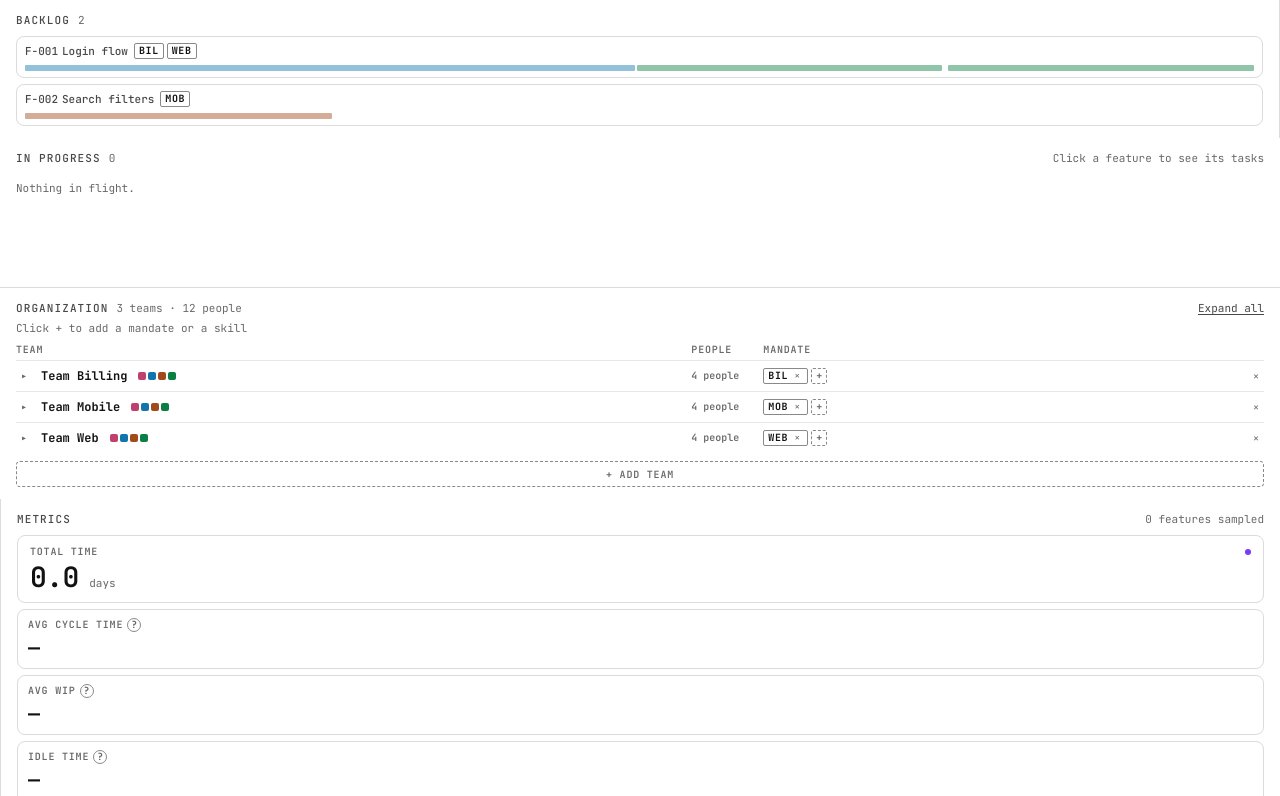
Test: feat-030 B6–B7: přejmenování týmu › B6: „  Mobile Apple “ + Enter → „Mobile Apple“; detail backlogu ukazuje „Mandate: Mobile Apple“
Replace the text in the 2nd field named "Team name" with "  Mobile Apple " at (82, 407), box [38,397,125,417]
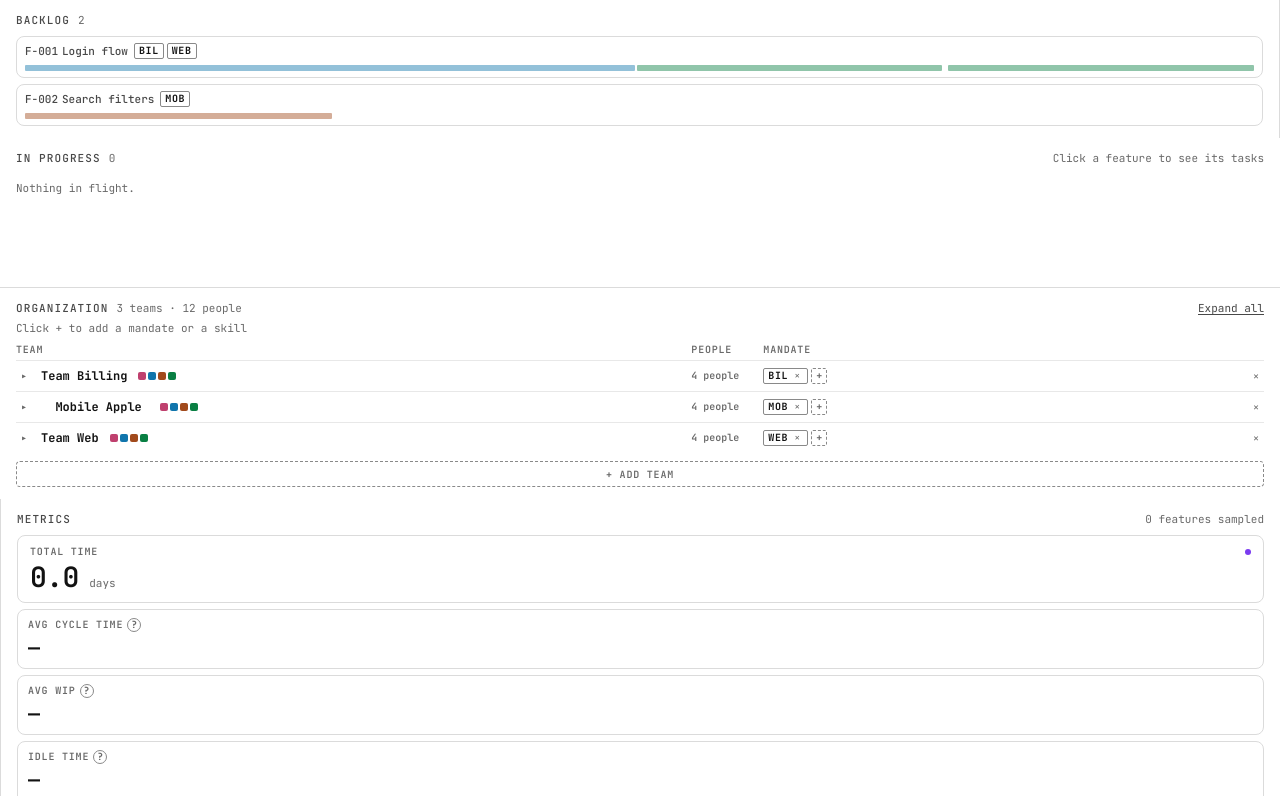
Press Enter in the 2nd field named "Team name", box [38,397,154,417]
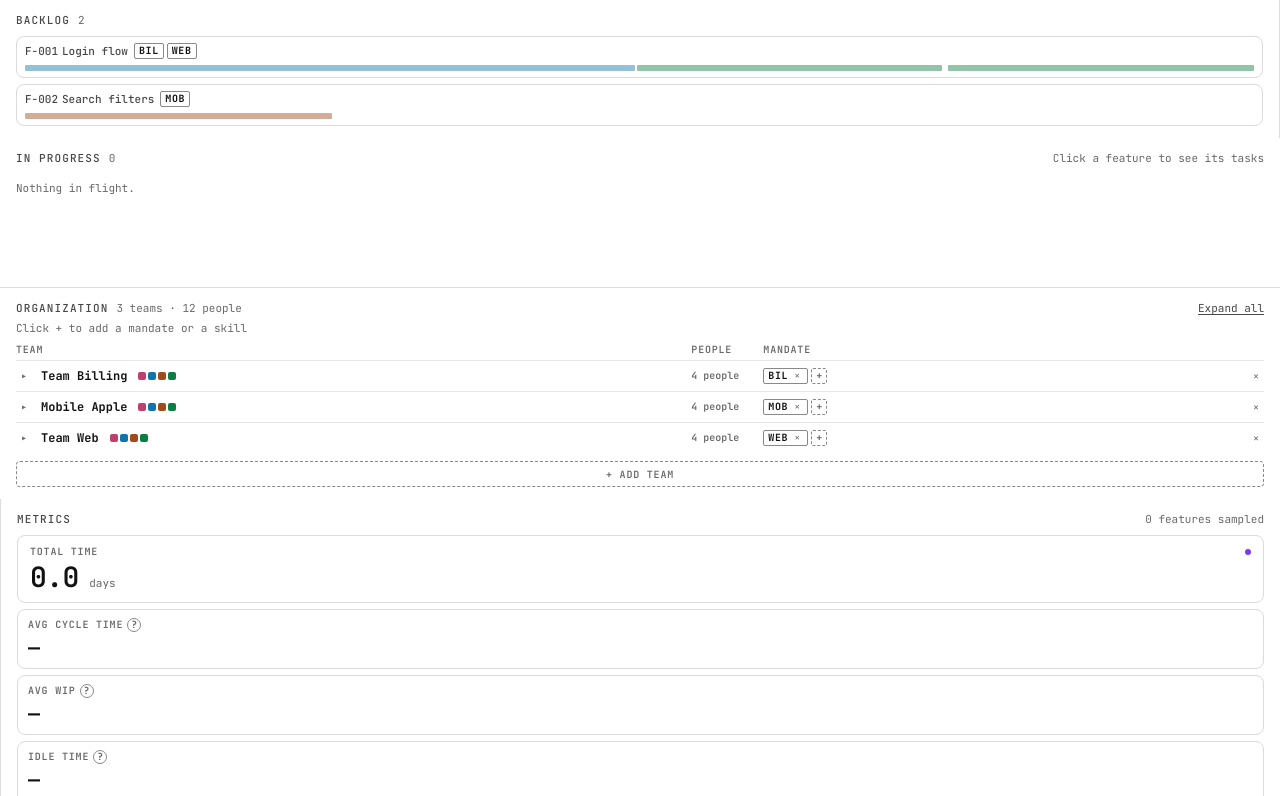
Click the button "F-002 Search filters MOB" at (42, 99), box [25,91,1254,119]
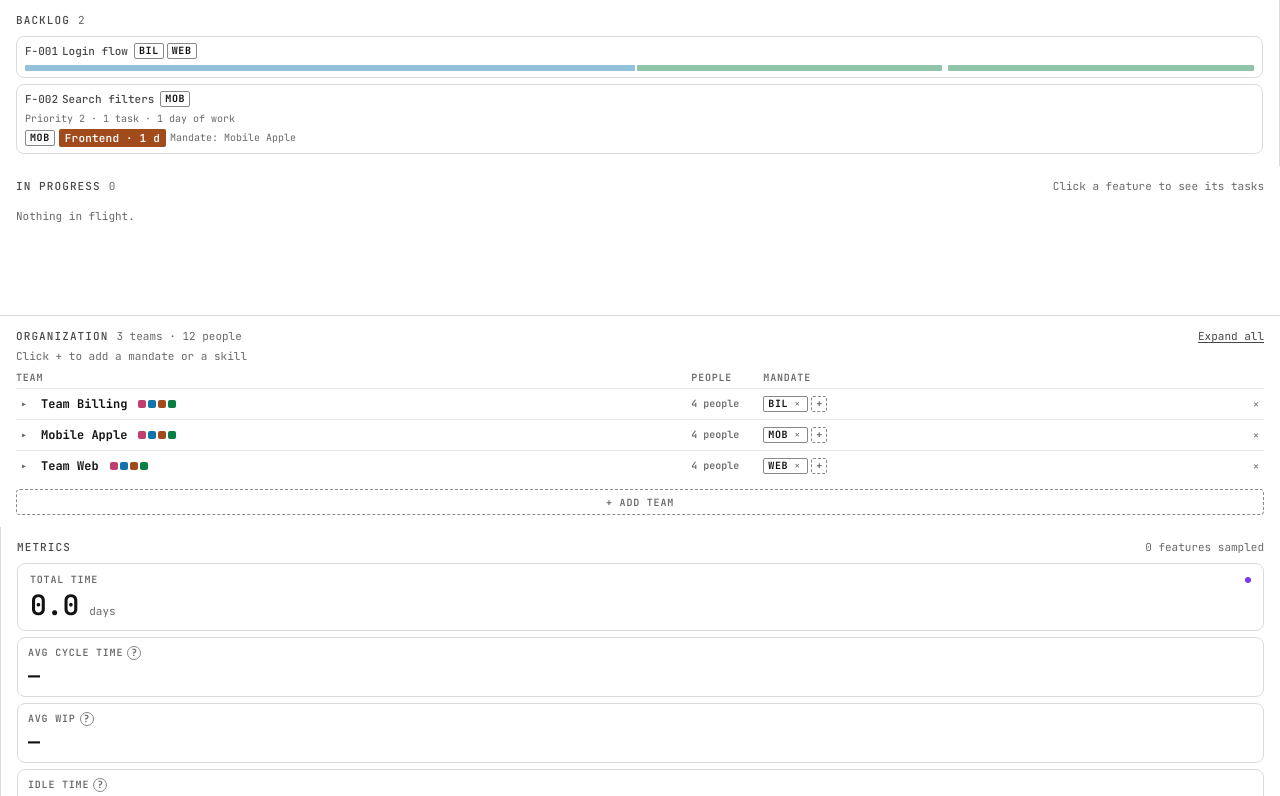
Result: the text "Mandate: Mobile Apple" is shown at [170,132,296,144]
